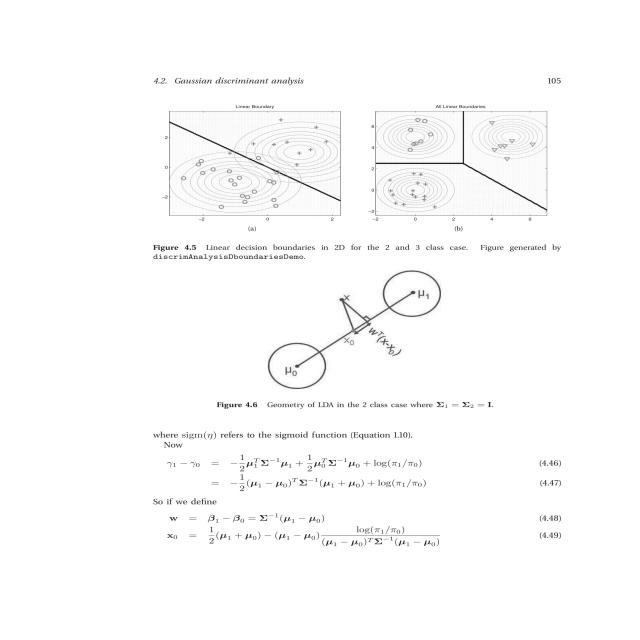diagram: (128, 67, 593, 266), (147, 267, 582, 425)
